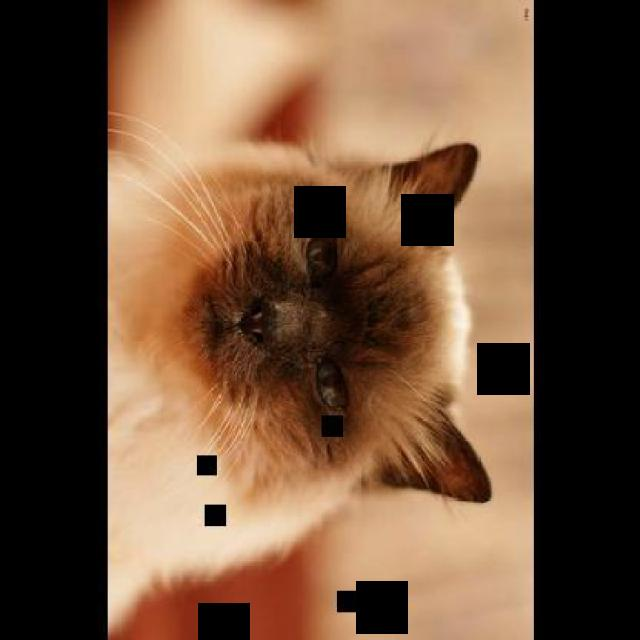unauthorized: (106, 111, 492, 637)
